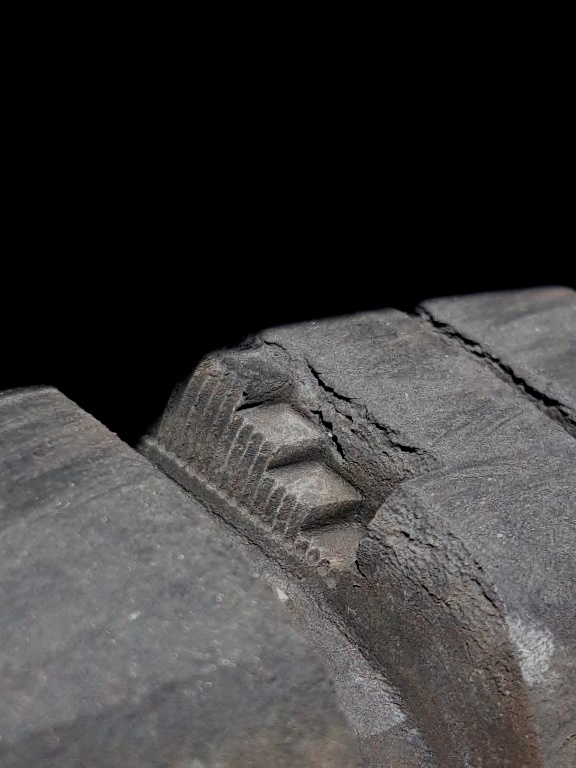temoin:80: (120, 311, 458, 596)
